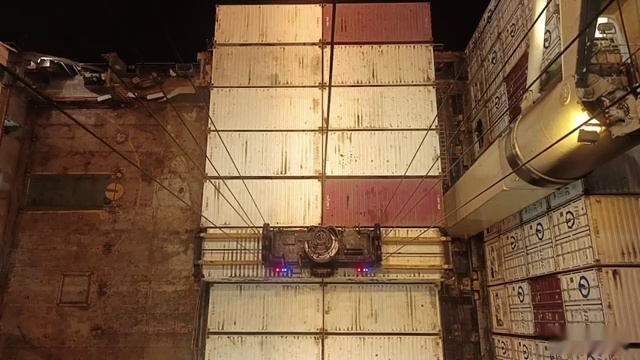container: (202, 225, 447, 282), (207, 282, 441, 336), (205, 126, 445, 177), (201, 176, 447, 225), (209, 84, 435, 129), (207, 333, 446, 360), (202, 333, 444, 357)
guide_mark: (66, 350, 560, 360), (111, 351, 544, 360)
spreader: (188, 222, 461, 281)
target_slot: (191, 222, 456, 283)
